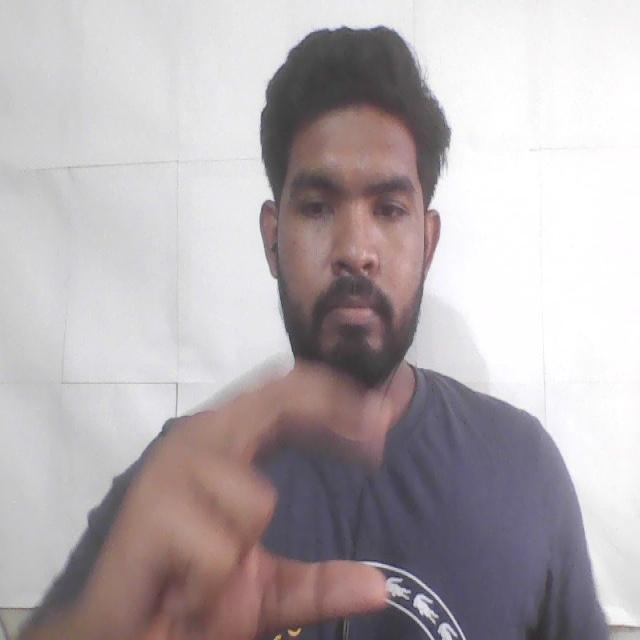No: (55, 354, 432, 640)
